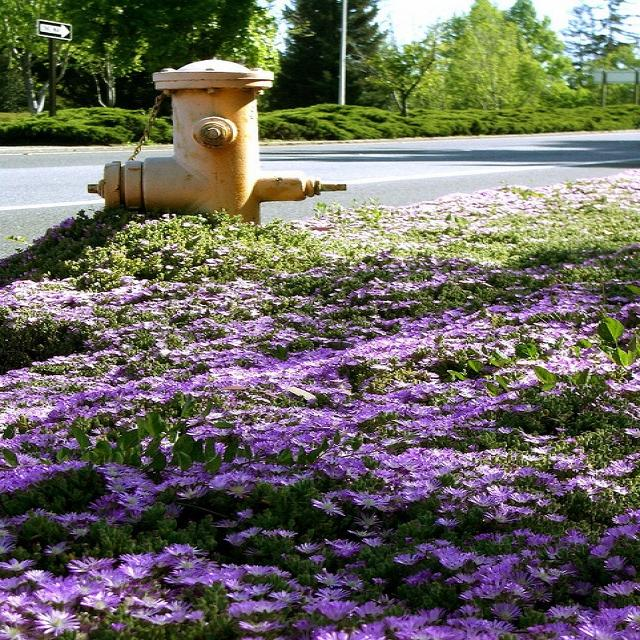fire_hydrant: (84, 51, 342, 227)
